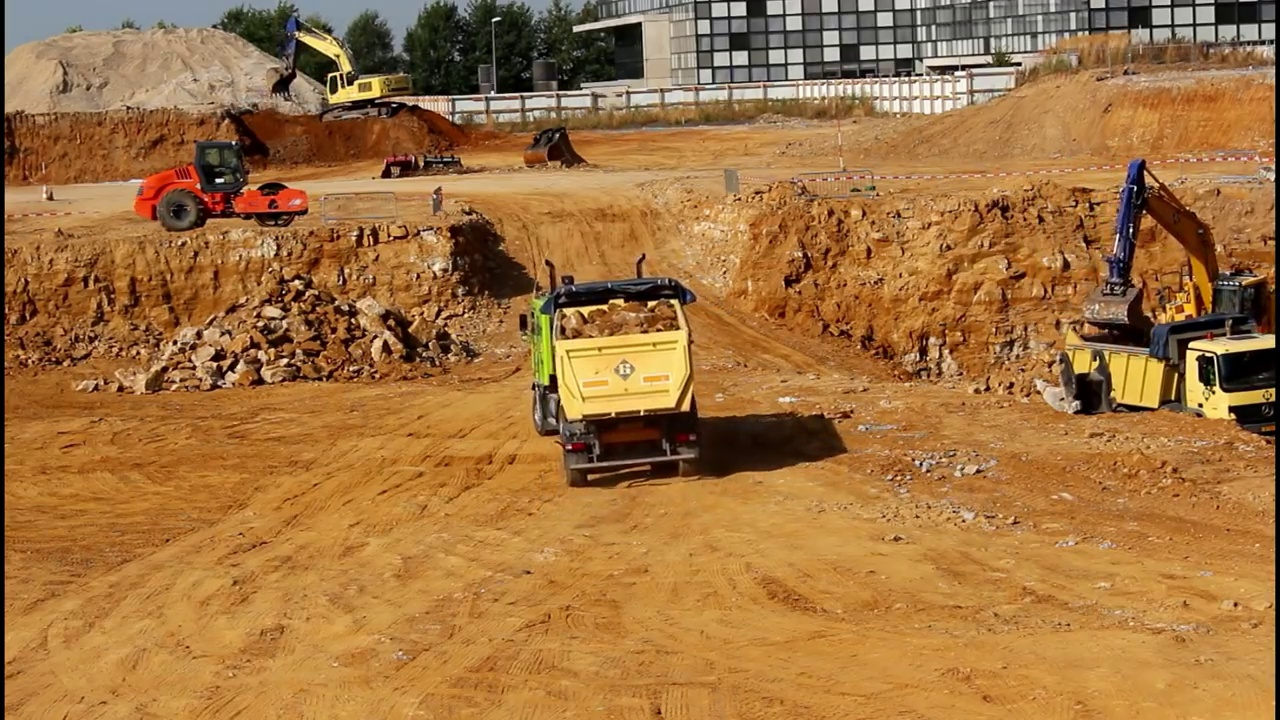compactor: (134, 138, 310, 231)
excavator: (1074, 152, 1280, 391), (268, 13, 416, 126)
truck: (524, 250, 709, 489), (1057, 319, 1280, 452)
